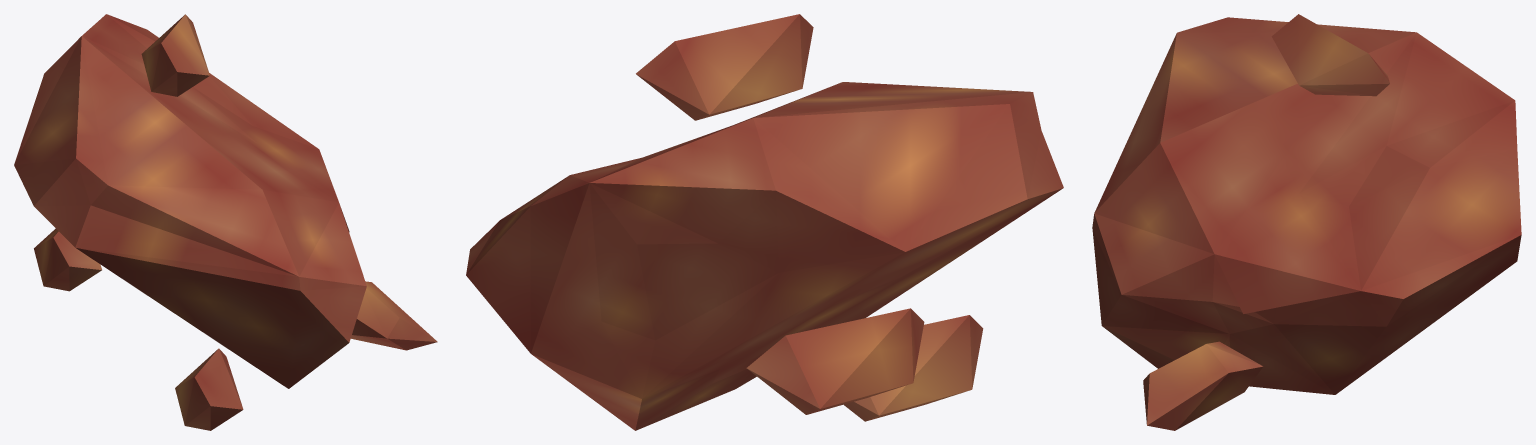
The picture shows the model from 3 angles, left to right: view 1: azimuth 30°, elevation 25°; view 2: azimuth 150°, elevation 25°; view 3: azimuth 270°, elevation 25°; orthographic projection. The views are drawn at different scales.
Visible parts, largest first — view 1: PedraAsteroide3.002; view 2: PedraAsteroide3.002; view 3: PedraAsteroide3.002.
Boxes of the visible parts, bbox=[...] form: PedraAsteroide3.002: bbox=[14, 14, 437, 430]; PedraAsteroide3.002: bbox=[466, 14, 1063, 430]; PedraAsteroide3.002: bbox=[1092, 14, 1521, 430].
Size of the model in its own units: 403 by 364 by 410.
